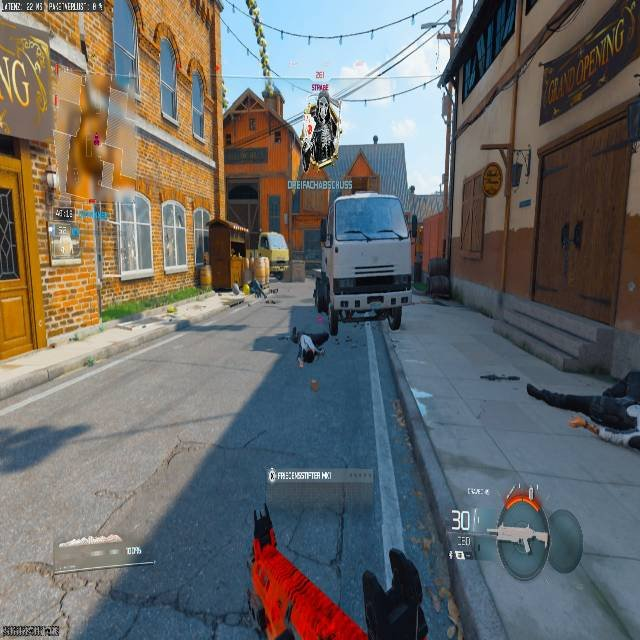player: (526, 370, 639, 461)
